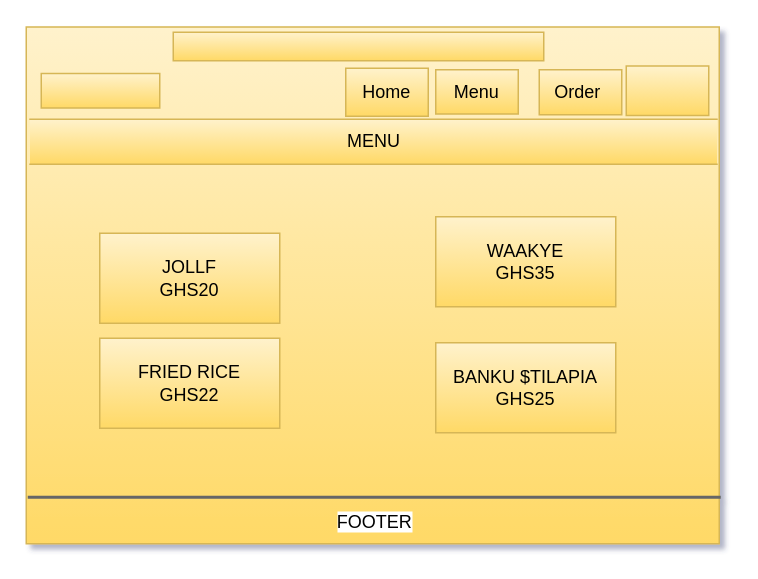
The diagram is 758 pixels wide and 579 high, and some of its shapes have lost their labels. The shapes that lost their labels are listed below. From the top down, each one's box as (x1, y1, x2, y2) in pixels, then its label:
(172, 31, 544, 61): MENU PAGE WIREFRAME
(40, 72, 160, 108): Campus Bites
(625, 64, 709, 116): Contact
